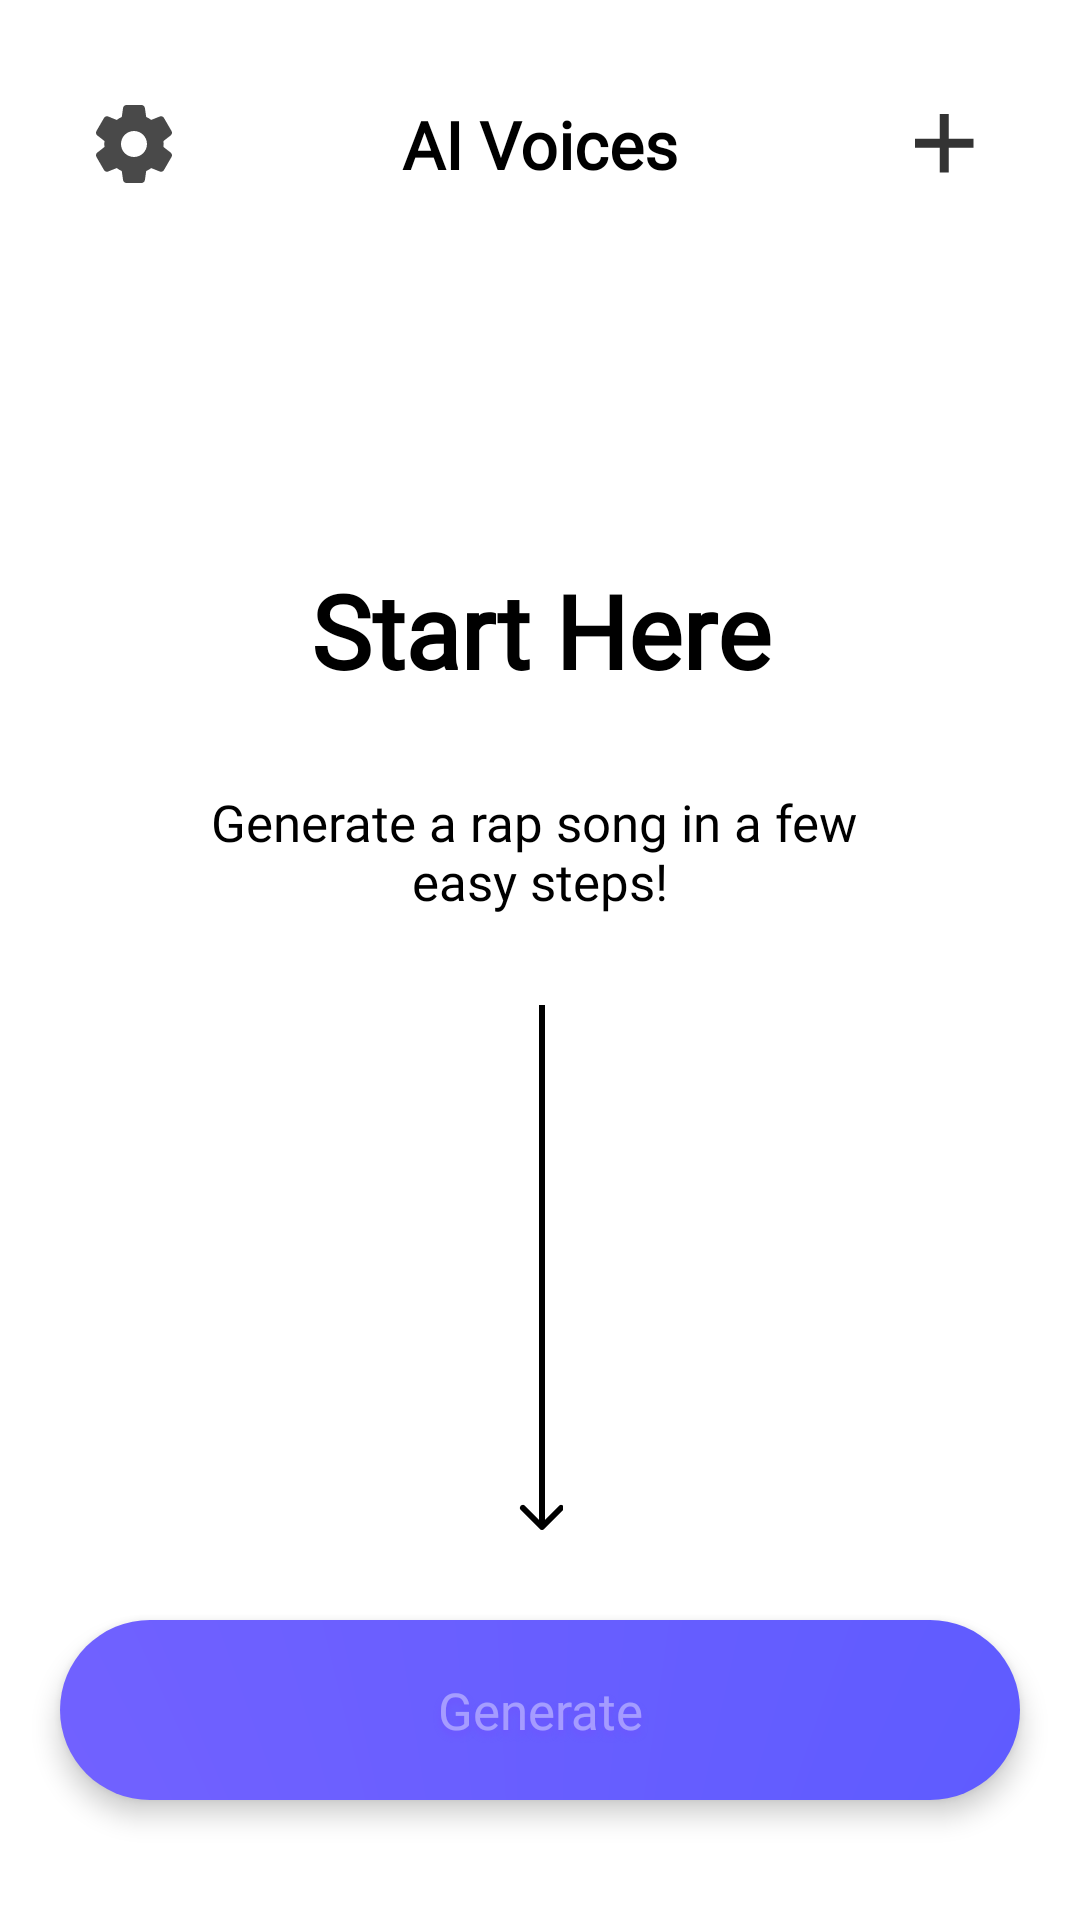

Locate icon controls on the screen. Image size 1080w x 1920h, boxes as [x1=x1, y1=y1, x2=x2, y2=y2].
add: [x1=915, y1=114, x2=974, y2=173]
settings: [x1=96, y1=105, x2=172, y2=183]
